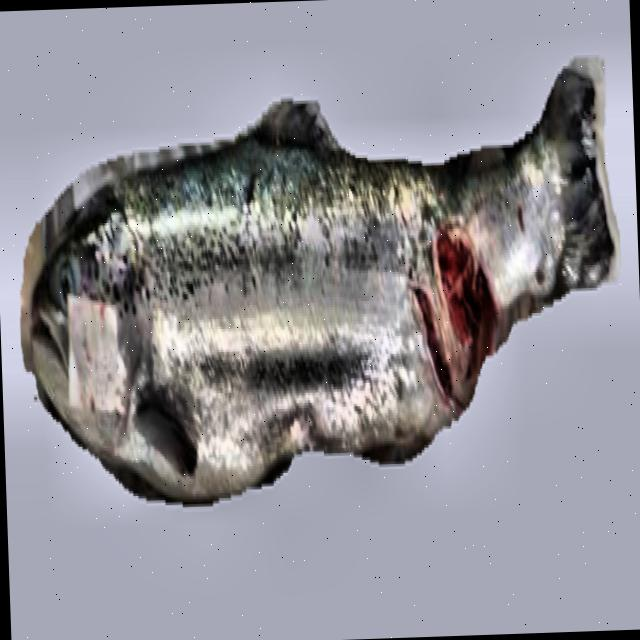mild_red: (116, 103, 564, 497)
wound: (435, 236, 496, 376), (415, 291, 452, 393)
